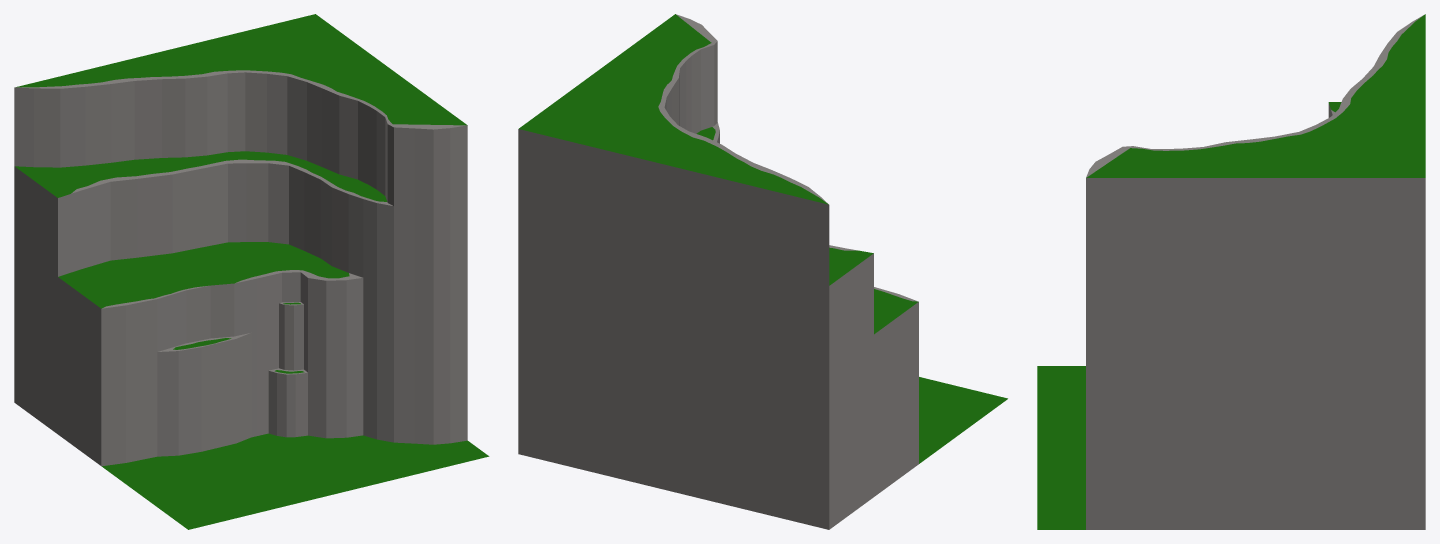
The model's file is MountainToStair.fbx.
3 renders of one model, left to right at view 1: azimuth 30°, elevation 25°; view 2: azimuth 150°, elevation 25°; view 3: azimuth 270°, elevation 25°, orthographic. The views are drawn at different scales.
Parts seen in each view (by area): view 1: Plane.003; view 2: Plane.003; view 3: Plane.003.
Part boxes in pixels (<box>): Plane.003: <box>14,14,489,529</box>; Plane.003: <box>518,14,1007,529</box>; Plane.003: <box>1037,14,1425,529</box>.
Bounding box in the file's own units: 100 × 100 × 100.
